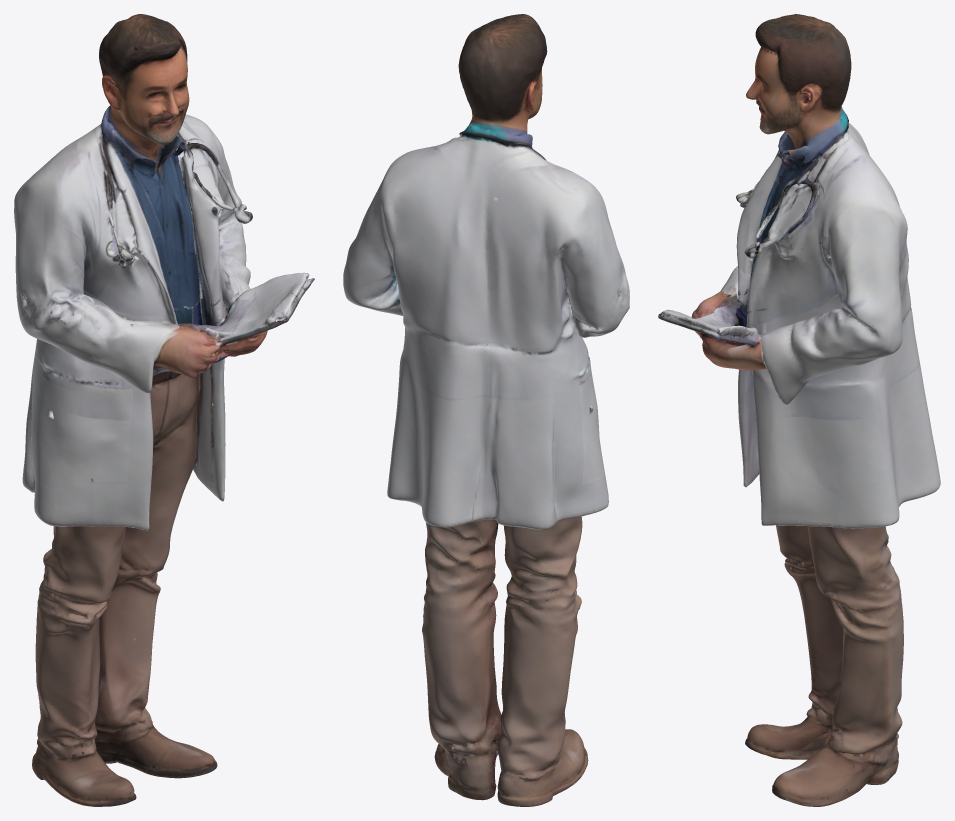
Rendered from medico.glb.
3 views of the same model, side by side, from view 1: azimuth 30°, elevation 25°; view 2: azimuth 150°, elevation 25°; view 3: azimuth 270°, elevation 25° (orthographic). The views are drawn at different scales.
Visible parts, largest first — view 1: medico; view 2: medico; view 3: medico.
Part boxes in pixels (bbox=[...]): medico: bbox=[14, 14, 314, 806]; medico: bbox=[343, 14, 629, 806]; medico: bbox=[658, 14, 940, 806].
Bounding box in the file's own units: 2.05 × 5.99 × 2.03.
1 material, 1 textured.
